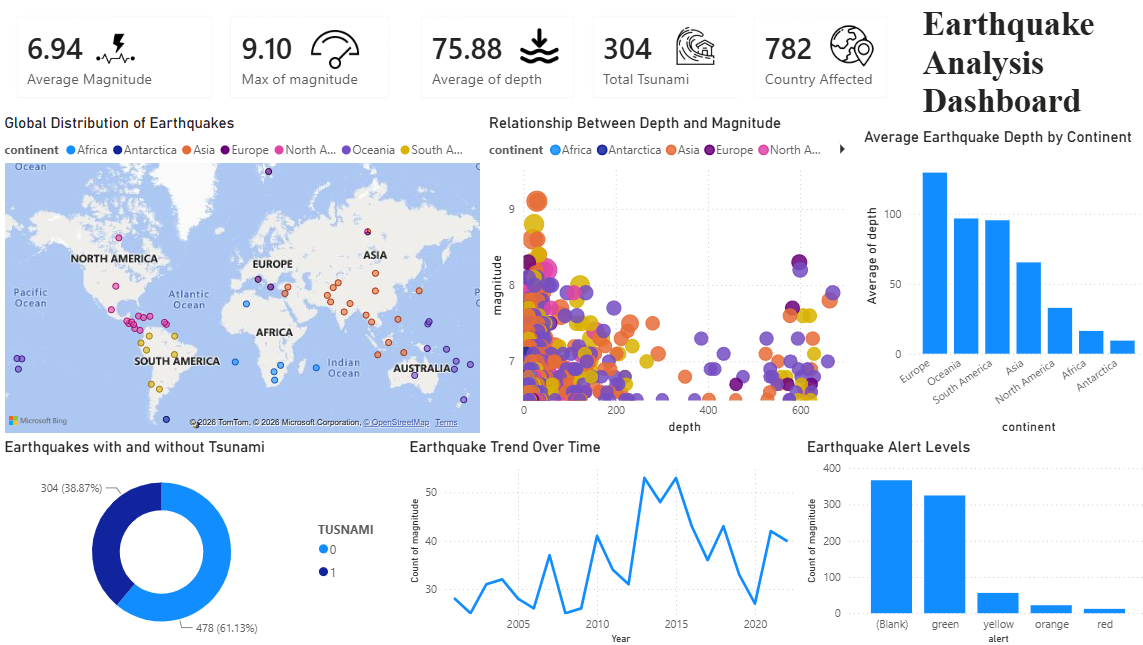

Layout of this report page (visuals, bound fields, positions):
{"tool":"powerbi","page":{"name":"Earthquake Analysis Dashboard","canvas":[1280,720],"ordinal":0},"visuals":[{"type":"map","title":"Global Distribution of Earthquakes","fields":{"Category":["Sheet1.country"],"Series":["Sheet1.continent"]},"box":[0,126.7,538.3,360],"z":0},{"type":"cardVisual","fields":{"Data":["Avg(Sheet1.magnitude)"]},"box":[0,0,253.3,126.7],"z":1000},{"type":"cardVisual","fields":{"Data":["Max(Sheet1.magnitude)"]},"box":[238.3,0,211.7,126.7],"z":2000},{"type":"cardVisual","fields":{"Data":["Avg(Sheet1.depth)"]},"box":[450,0,205,126.7],"z":3000},{"type":"cardVisual","fields":{"Data":["Sum(Sheet1.TUSNAMI)"]},"box":[640,0,201.7,126.7],"z":4000},{"type":"donutChart","title":"Earthquakes with and without Tsunami","fields":{"Y":["CountNonNull(Sheet1.magnitude)"],"Category":["Sheet1.TUSNAMI"]},"box":[0,486.7,438.3,233.3],"z":5000},{"type":"clusteredColumnChart","title":"Earthquake Alert Levels","fields":{"Category":["Sheet1.alert"],"Y":["CountNonNull(Sheet1.magnitude)"]},"box":[891.7,486.7,388.3,233.3],"z":6000},{"type":"lineChart","title":"Earthquake Trend Over Time","fields":{"Category":["Sheet1.date_time.Variation.Date Hierarchy.Year","Sheet1.date_time.Variation.Date Hierarchy.Quarter","Sheet1.date_time.Variation.Date Hierarchy.Month","Sheet1.date_time.Variation.Date Hierarchy.Day"],"Y":["CountNonNull(Sheet1.magnitude)"]},"box":[450,486.7,441.7,233.3],"z":7000},{"type":"scatterChart","title":"Relationship Between Depth and Magnitude","fields":{"X":["Sheet1.depth"],"Y":["Sheet1.magnitude"],"Size":["Sum(Sheet1.Significance score)"],"Series":["Sheet1.continent"]},"box":[538.3,126.7,416.7,360],"z":8000},{"type":"columnChart","title":"Average Earthquake Depth by Continent","fields":{"Category":["Sheet1.continent"],"Y":["Avg(Sheet1.depth)"]},"box":[955,141.7,325,345],"z":9000},{"type":"textbox","box":[1020,0,260,141.7],"z":10000},{"type":"image","box":[558.3,25,81.7,51.7],"z":11000},{"type":"image","box":[345,28.3,55,53.3],"z":12000},{"type":"image","box":[88.3,31.7,80,45],"z":13000},{"type":"cardVisual","fields":{"Data":["CountNonNull(Sheet1.country)"]},"box":[820,0,183.3,126.7],"z":14000},{"type":"image","box":[741.7,30,61.7,41.7],"z":15000},{"type":"image","box":[911.7,25,70,51.7],"z":16000}]}

Visuals, with their boxes in screenshot pixels (x1, y1, x2, y2), scaled from the page's 1280x720 canvas onto the 1143x645 screenshot:
"Global Distribution of Earthquakes" map: 0:114:481:436
cardVisual - Avg(Sheet1.magnitude): 0:0:226:114
cardVisual - Max(Sheet1.magnitude): 213:0:402:114
cardVisual - Avg(Sheet1.depth): 402:0:585:114
cardVisual - Sum(Sheet1.TUSNAMI): 572:0:752:114
"Earthquakes with and without Tsunami" donutChart: 0:436:391:644
"Earthquake Alert Levels" clusteredColumnChart: 796:436:1142:644
"Earthquake Trend Over Time" lineChart: 402:436:796:644
"Relationship Between Depth and Magnitude" scatterChart: 481:114:853:436
"Average Earthquake Depth by Continent" columnChart: 853:127:1142:436
textbox: 911:0:1142:127
image: 499:22:572:69
image: 308:25:357:73
image: 79:28:150:69
cardVisual - CountNonNull(Sheet1.country): 732:0:896:114
image: 662:27:717:64
image: 814:22:877:69
